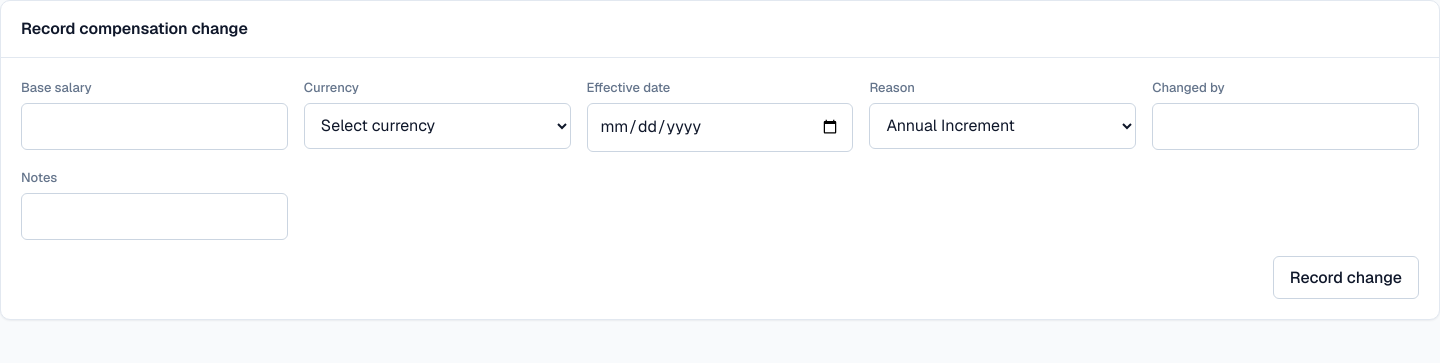
Scenario: RecordCompensationChangeForm › clears a field error when the user edits that field
Click the button "Record change": (1346, 278) left=1273, top=256, right=1419, bottom=299
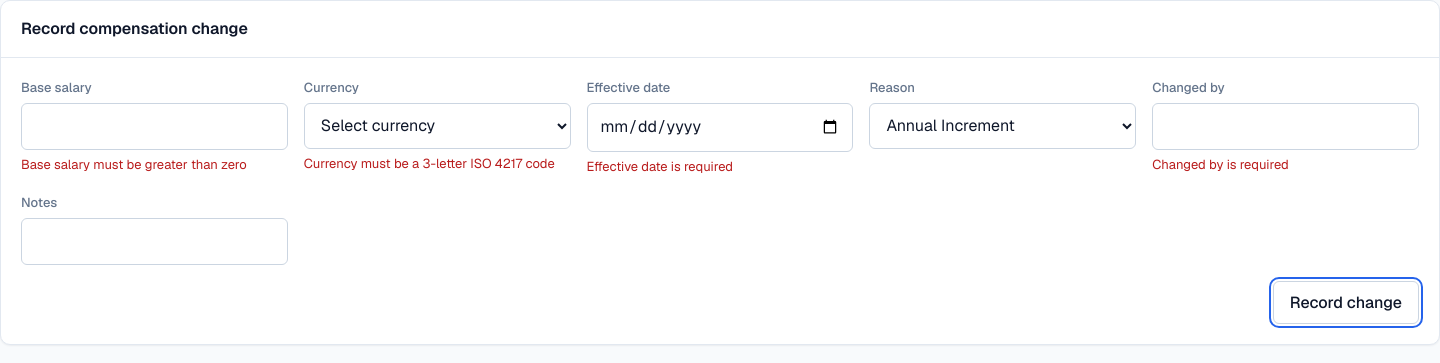
Expected: the text "Base salary must be greater than zero" is shown, left=21, top=156, right=247, bottom=174
In the number field with id "compensation-base-salary": (154, 126) left=21, top=103, right=288, bottom=150, type "140000"
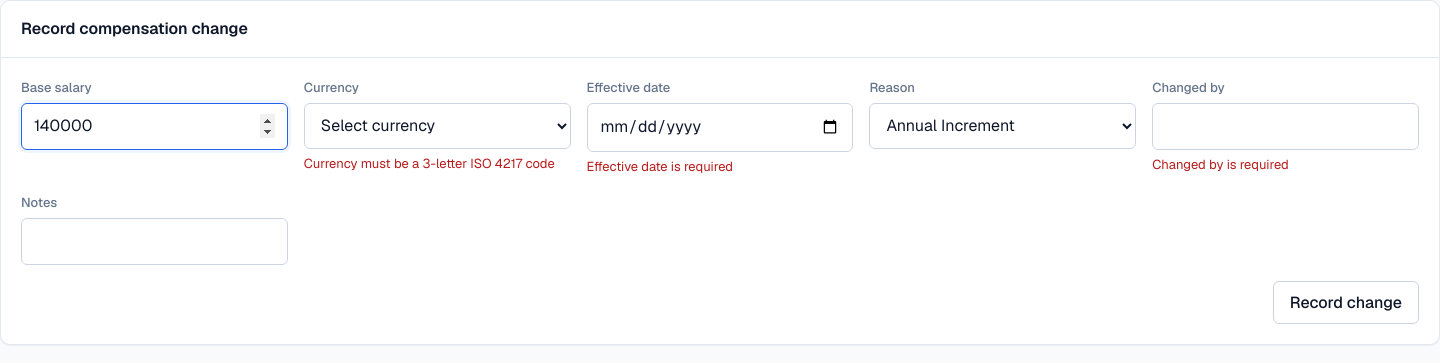
Expected: the text "Base salary must be greater than zero" is gone
